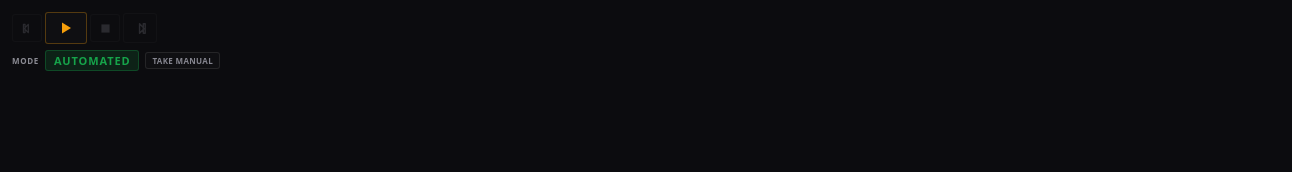
Test: PlayoutTransport › shows cache warning when engine has fetching items on play click
This screenshot has width=1292, height=172.
Click the button with class "t-main" at x=66, y=28, box 45,12 -> 87,44
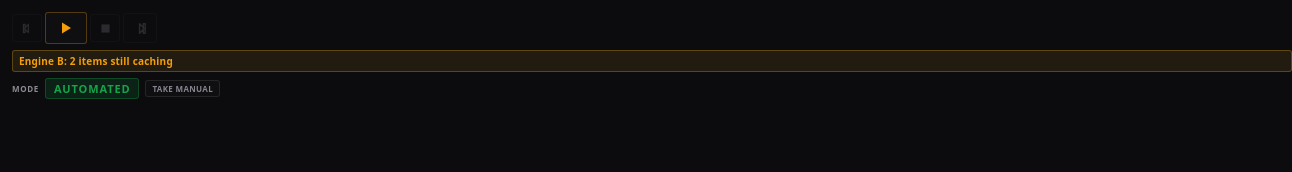
expect the element with class "cache-warning" is shown: met, box 12,50 -> 1291,72
expect the element with class "cache-warning" shows "Engine B": met, box 19,54 -> 173,68
expect the element with class "cache-warning" shows "2": met, box 19,54 -> 173,68
